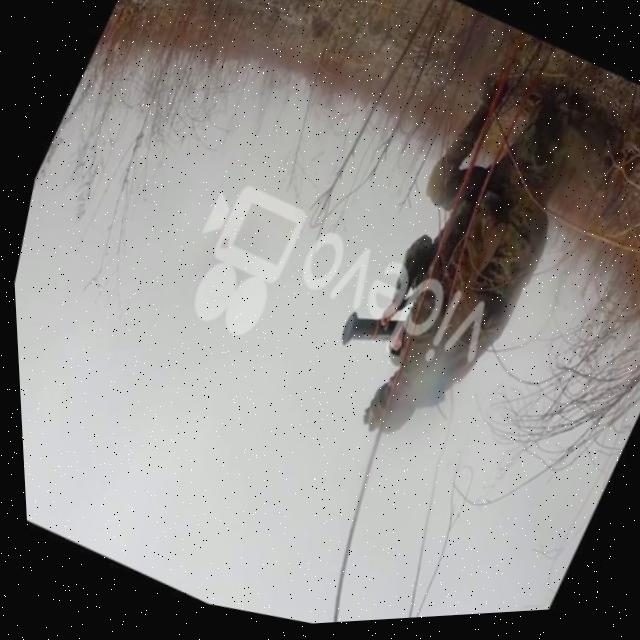rocket: (326, 285, 416, 375)
